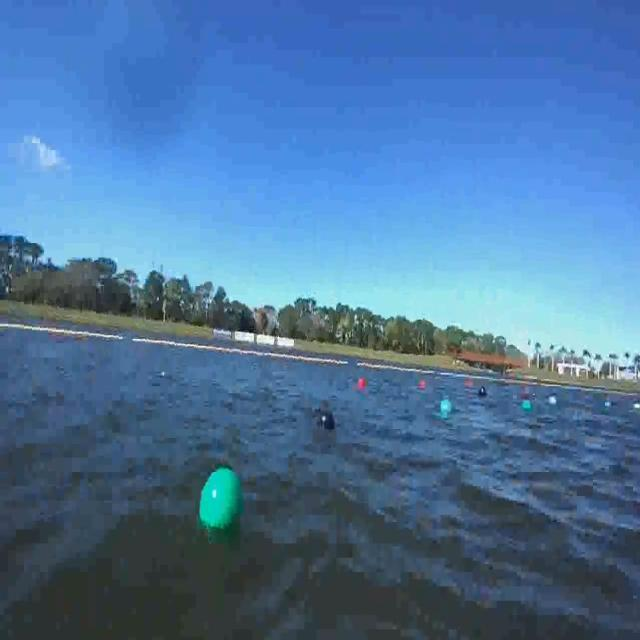black-buoy: (479, 386, 488, 397)
green-buoy: (199, 467, 244, 532), (442, 400, 454, 417), (522, 399, 534, 412)
red-buoy: (358, 378, 367, 390)
